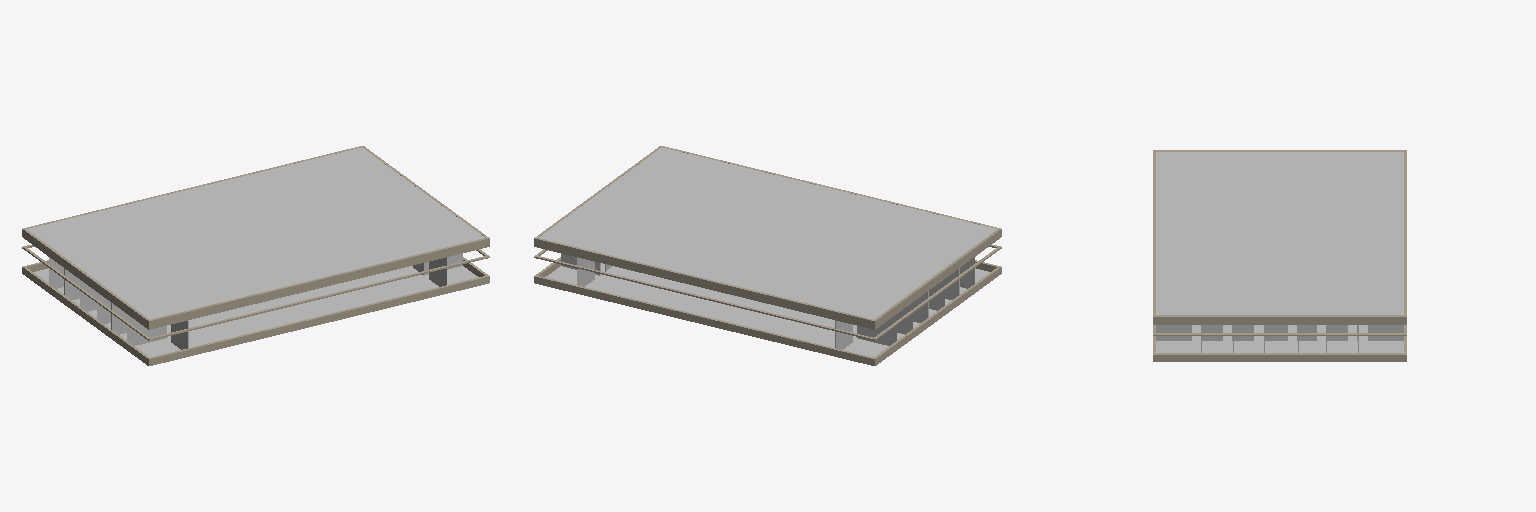
The model's file is Floor13ft.obj.
3 renders of one model, left to right at view 1: azimuth 30°, elevation 25°; view 2: azimuth 150°, elevation 25°; view 3: azimuth 270°, elevation 25°, orthographic.
Visible parts, largest first — view 1: FrontWall; view 2: FrontWall; view 3: FrontWall.
Boxes of the visible parts, box(x1,y1,x2,y2) form: FrontWall: box(22, 146, 489, 365); FrontWall: box(534, 146, 1001, 365); FrontWall: box(1153, 150, 1406, 361).
Bounding box in the file's own units: 38.71 × 4.89 × 24.94.